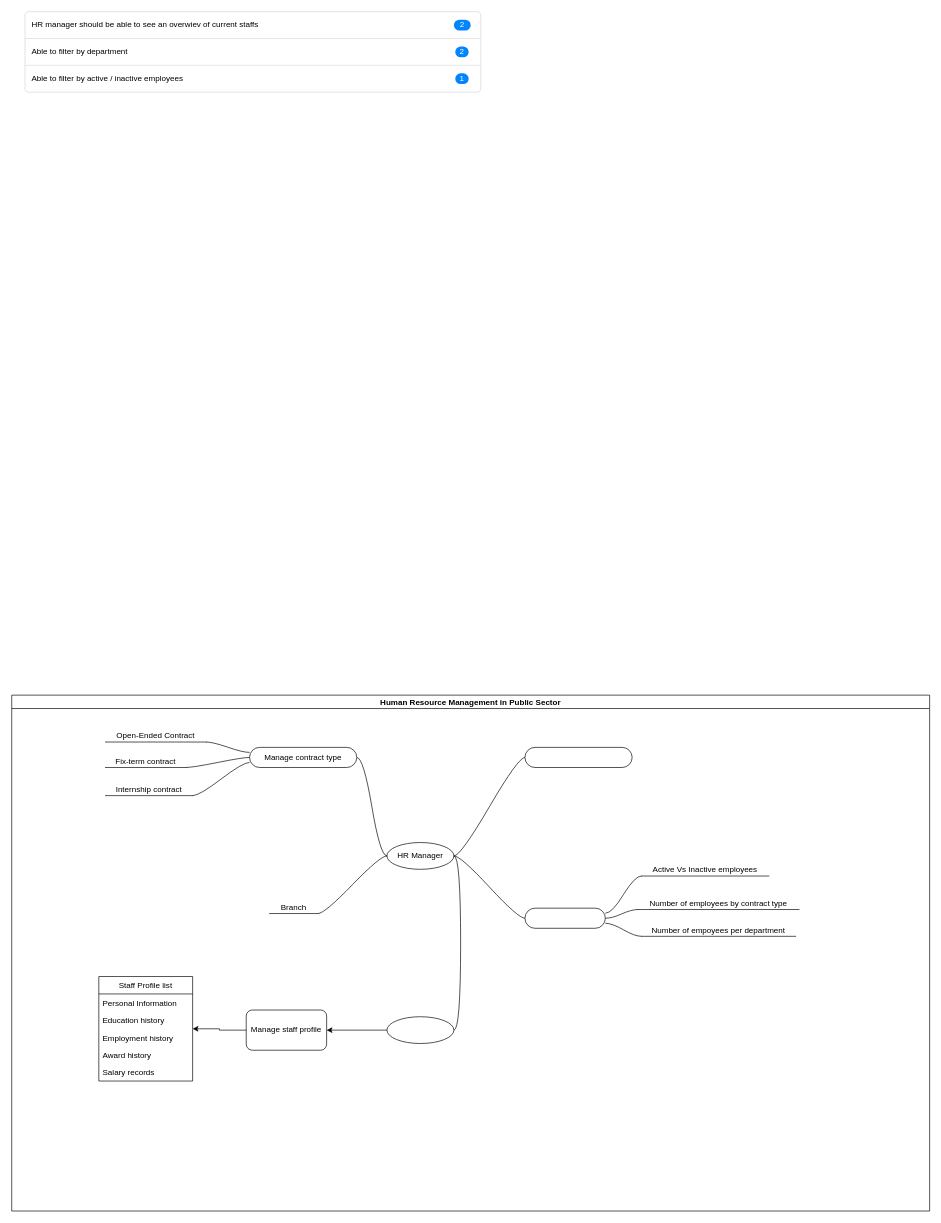
This 941x1223 diagram has some shape labels left out. Here are the shapes that lost their labels. From the top down, the centre of each, then its label:
At pixel 578 757: "Manage Departments".
At pixel 564 918: "Staff reporting".
At pixel 420 1030: "Data Entry".
